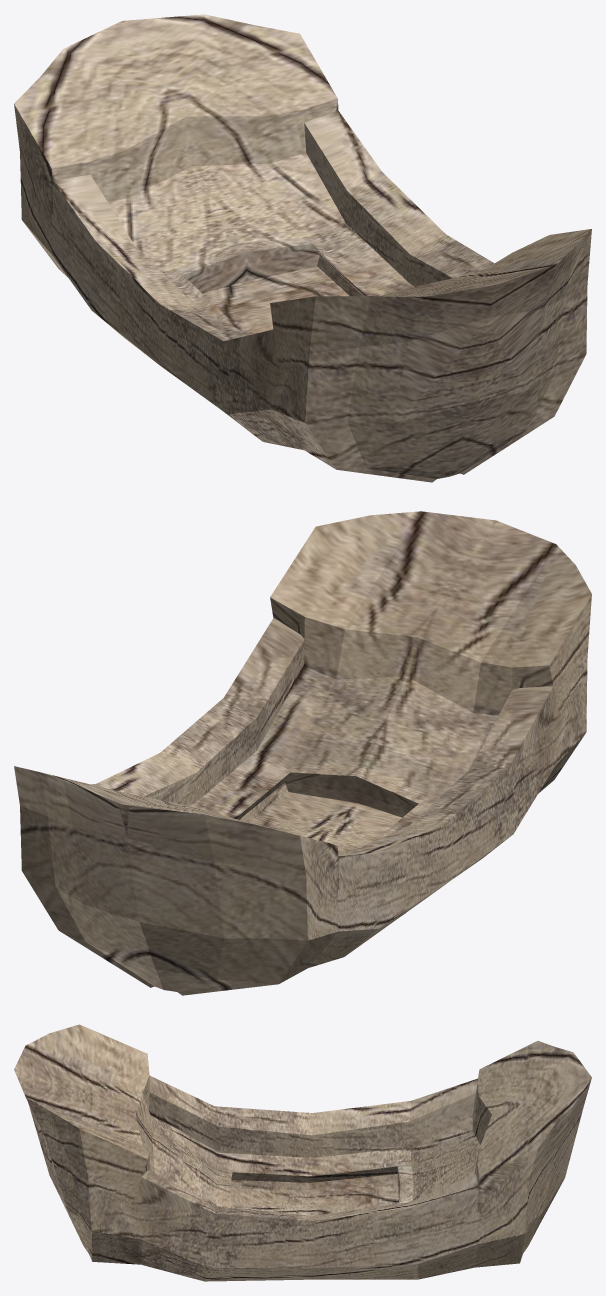
Rendered from BOAT2.obj.
3 views of the same model, one above another, from view 1: azimuth 30°, elevation 25°; view 2: azimuth 150°, elevation 25°; view 3: azimuth 270°, elevation 25° (orthographic). The views are drawn at different scales.
Parts seen in each view (by area): view 1: Cube_Cube.001; view 2: Cube_Cube.001; view 3: Cube_Cube.001.
Part boxes in pixels (<box>): Cube_Cube.001: <box>14,14,591,482</box>; Cube_Cube.001: <box>14,511,591,995</box>; Cube_Cube.001: <box>14,1024,591,1281</box>.
Size of the model in its own units: 4.04 by 3.37 by 9.14.
Materials: 1 (1 with a texture image).
